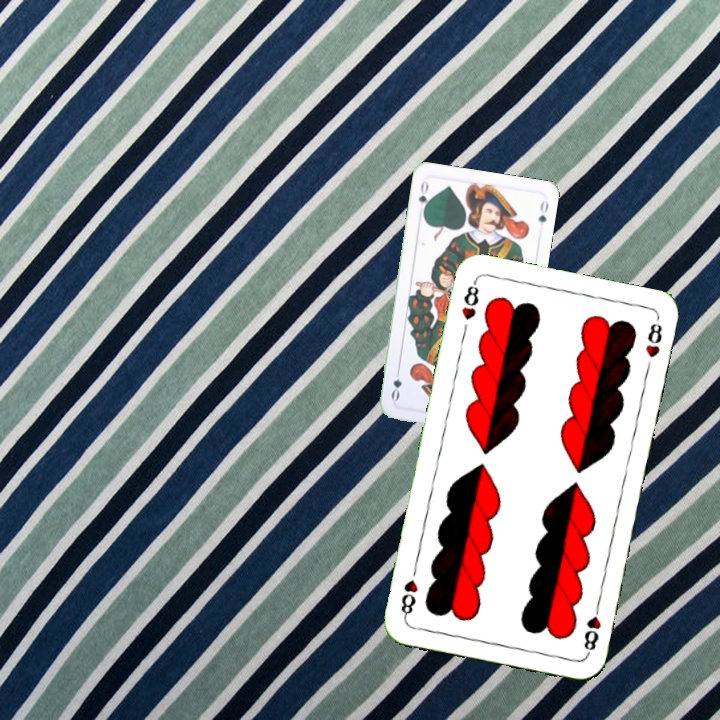GO: (414, 177, 432, 217)
H8: (579, 599, 604, 657), (457, 277, 482, 323)
